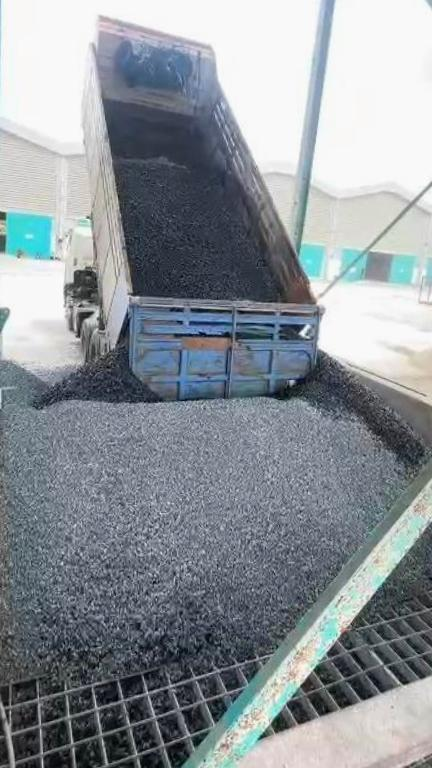gravel: (0, 320, 429, 682), (115, 136, 285, 302), (371, 490, 432, 610)
sand: (363, 336, 432, 413)
